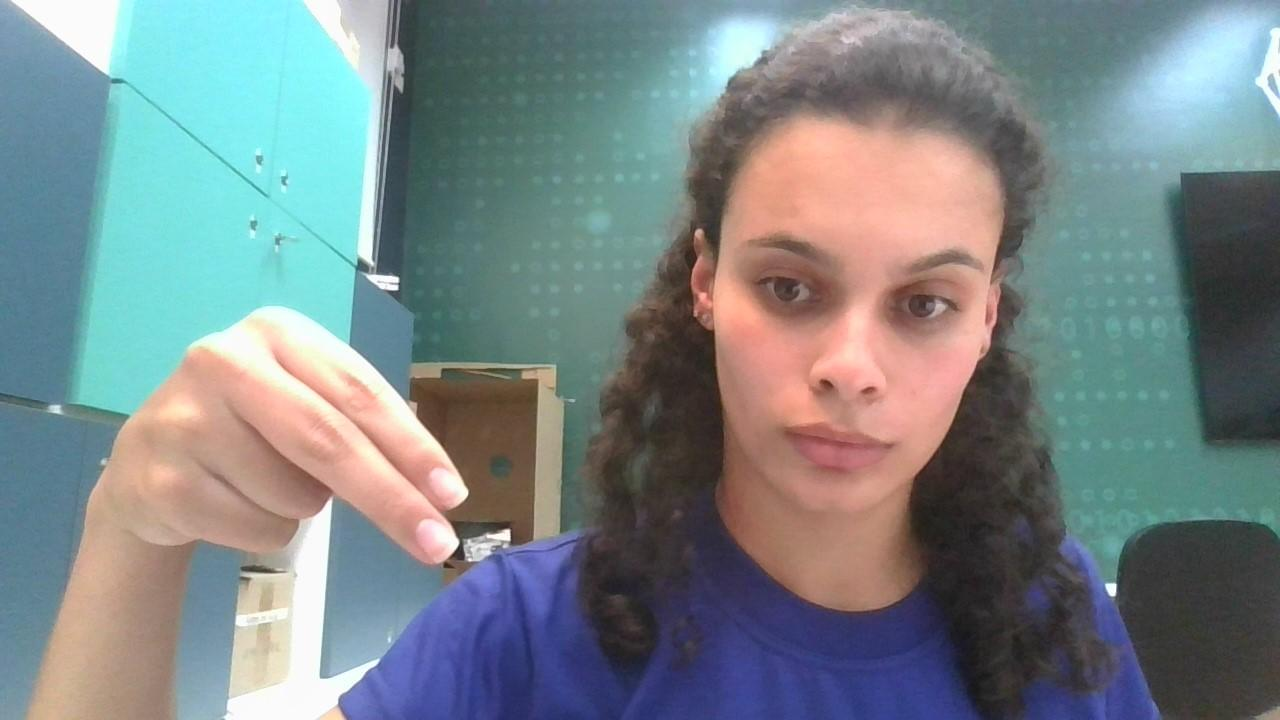N: (100, 289, 490, 597)
